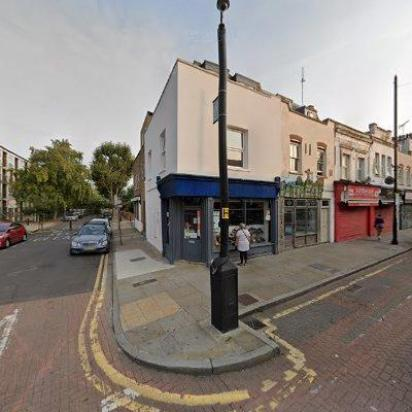stationary-car-onstreet: (69, 224, 111, 256), (0, 220, 28, 250), (63, 213, 78, 221)
